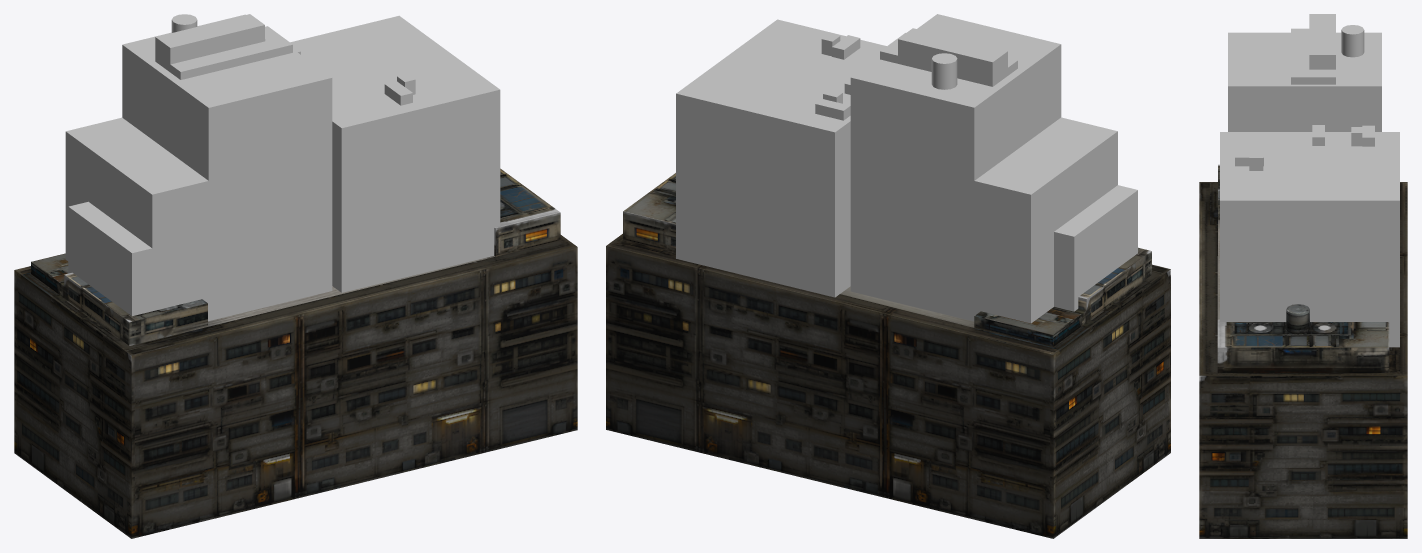
The model's file is CP_Slums_11.fbx.
3 renders of one model, left to right at view 1: azimuth 30°, elevation 25°; view 2: azimuth 150°, elevation 25°; view 3: azimuth 270°, elevation 25°, orthographic. The views are drawn at different scales.
Parts seen in each view (by area): view 1: CP_Slums_11; view 2: CP_Slums_11; view 3: CP_Slums_11.
Boxes of the visible parts, x1=… form: CP_Slums_11: x1=14, y1=14, x2=577, y2=538; CP_Slums_11: x1=606, y1=14, x2=1170, y2=538; CP_Slums_11: x1=1199, y1=14, x2=1407, y2=538.
Bounding box in the file's own units: 3920 × 3547 × 1782.
